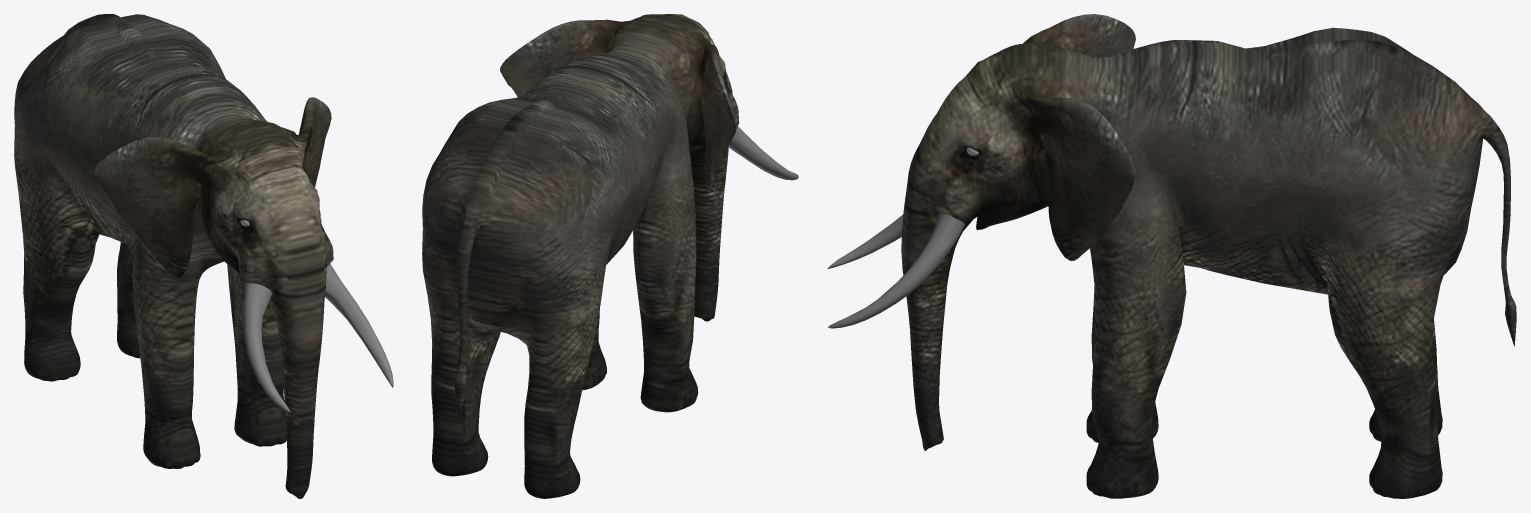
Rendered from elephant_6eb0b6ef.glb.
3 renders of one model, left to right at view 1: azimuth 30°, elevation 25°; view 2: azimuth 150°, elevation 25°; view 3: azimuth 270°, elevation 25°, orthographic. The views are drawn at different scales.
Parts seen in each view (by area): view 1: Object_9, Object_7; view 2: Object_9, Object_7; view 3: Object_9, Object_7.
Boxes of the visible parts, bbox=[...] form: Object_9: bbox=[14, 14, 333, 498]; Object_7: bbox=[243, 263, 393, 412]; Object_9: bbox=[422, 14, 739, 498]; Object_7: bbox=[728, 126, 798, 180]; Object_9: bbox=[901, 14, 1516, 498]; Object_7: bbox=[827, 213, 965, 328].
Bounding box in the file's own units: 1.18 × 1.69 × 2.5.
4 materials, 3 textured.
